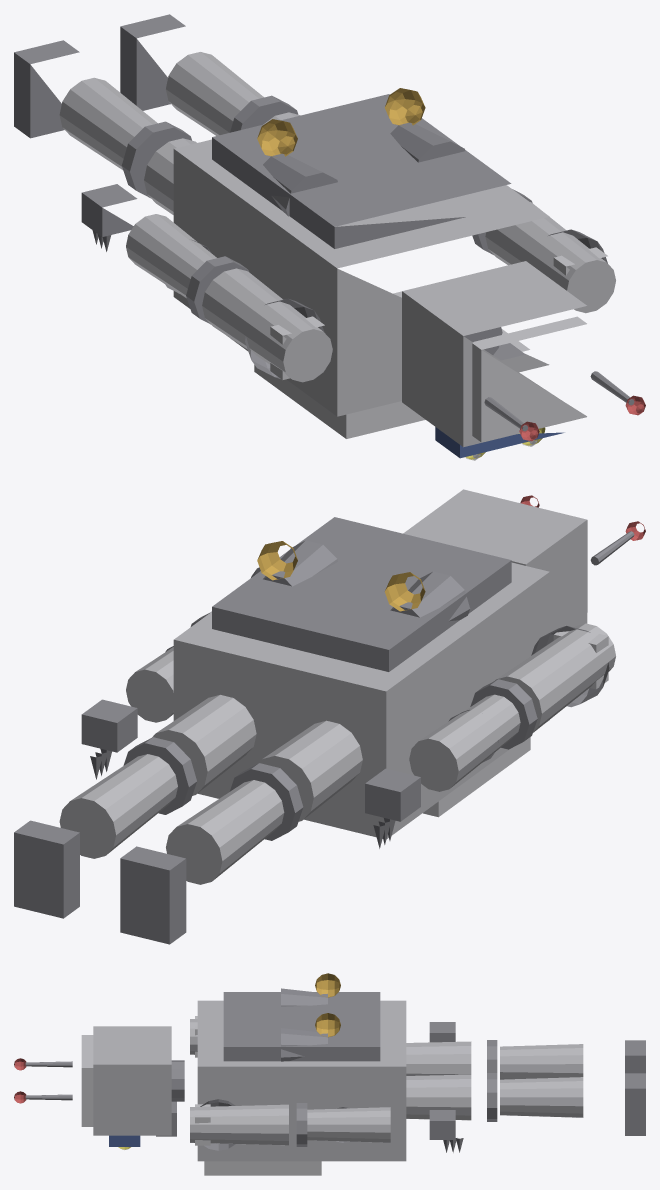
Rendered from robot.glb.
3 views of the same model, one above another, from view 1: azimuth 30°, elevation 25°; view 2: azimuth 150°, elevation 25°; view 3: azimuth 270°, elevation 25° (orthographic). The views are drawn at different scales.
Parts seen in each view (by area): view 1: geometry_0; view 2: geometry_0; view 3: geometry_0.
Part boxes in pixels (x1,y1,x2,y2): geometry_0: [14, 14, 645, 460]; geometry_0: [14, 489, 645, 944]; geometry_0: [14, 973, 645, 1175].
Bounding box in the file's own units: 1 × 0.718 × 2.43.
